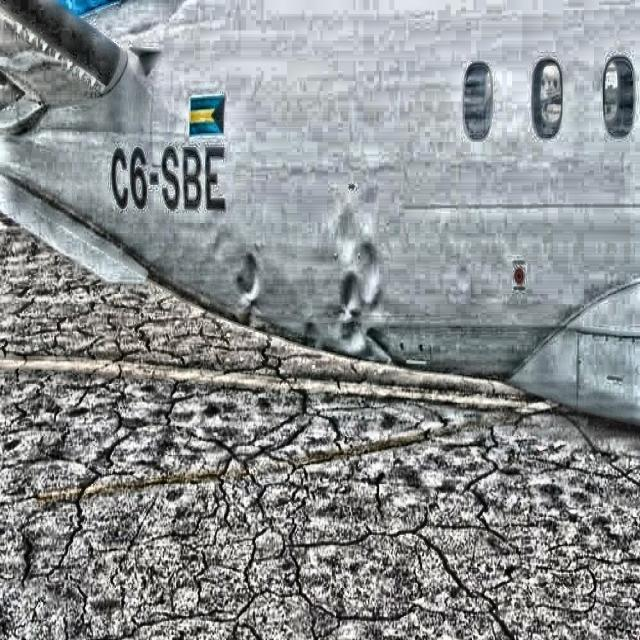dent: (235, 203, 395, 378)
